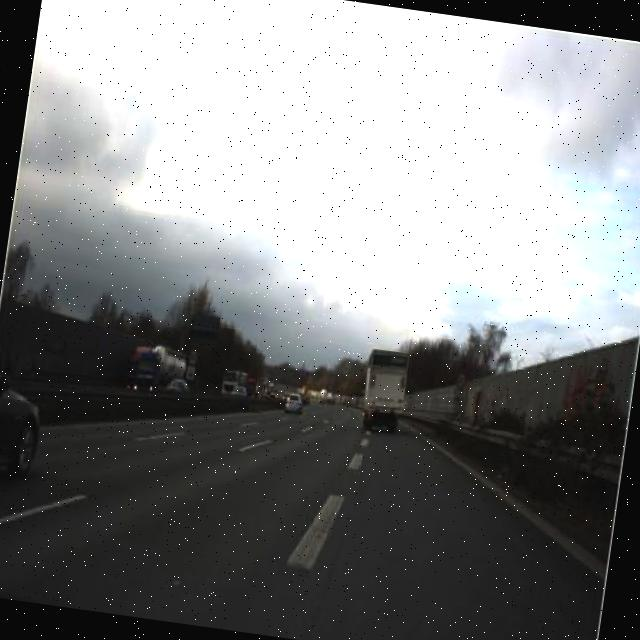Ograniczenie predkosci do 80: (453, 369, 470, 392), (185, 344, 202, 366)
